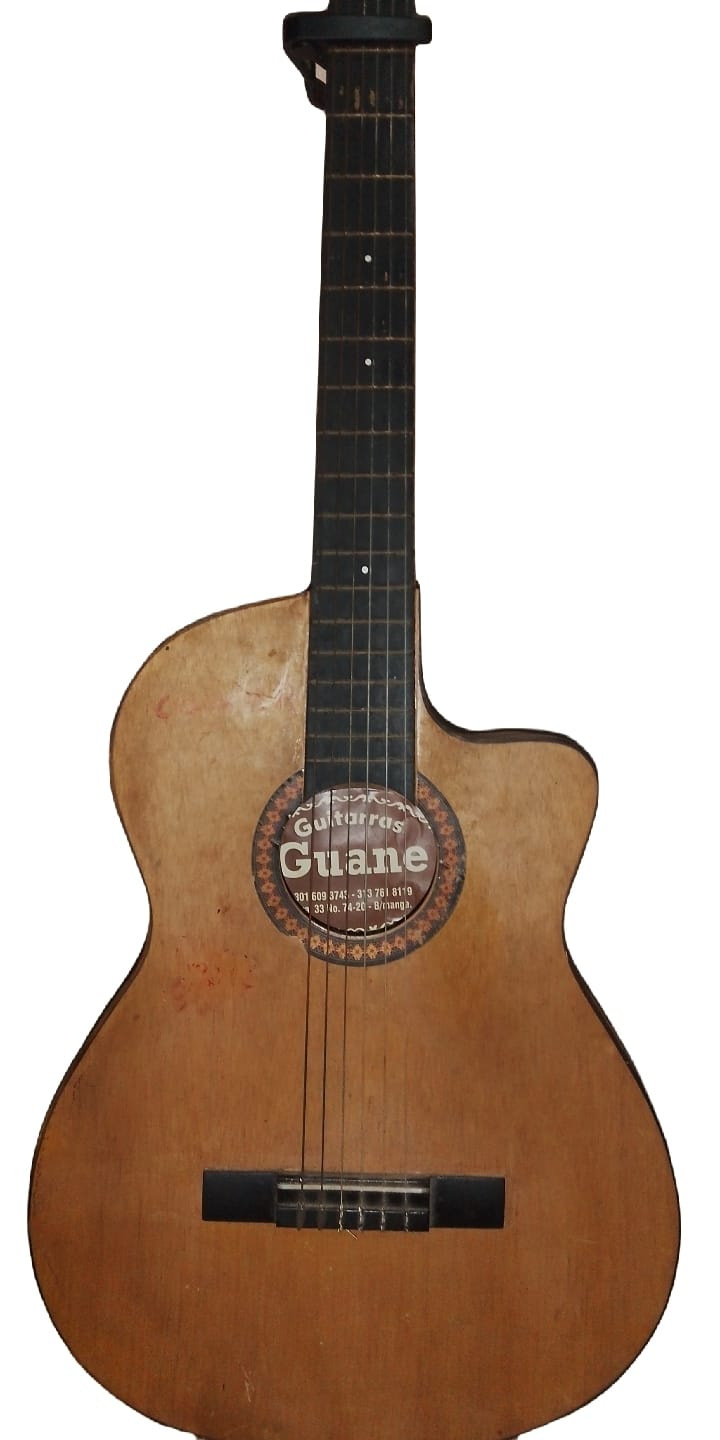guitar: (18, 0, 694, 1440)
